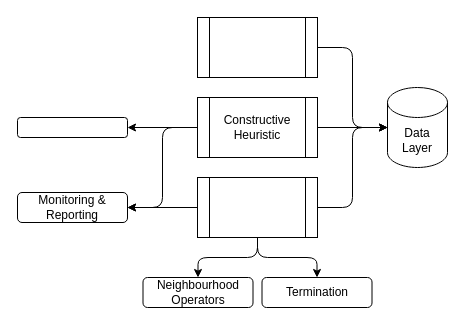
Image size: 465x325. Some labels were removed from this diagram. Here are the shapes that lost their labels. From the top down, the centre of each, then its label:
point 257,47: Lower/Upper Bond Estimation
point 72,127: Evaluation
point 257,207: Iterative Metaheuristic
